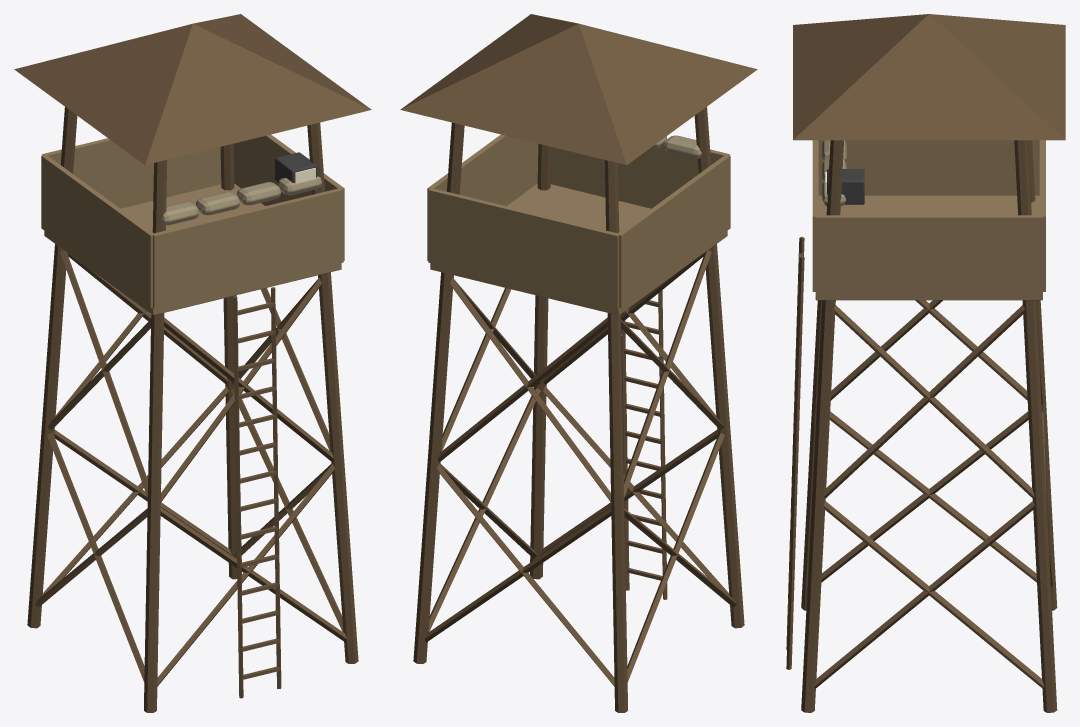
Rendered from HQ_Watchtower.fbx.
3 views of the same model, side by side, from view 1: azimuth 30°, elevation 25°; view 2: azimuth 150°, elevation 25°; view 3: azimuth 270°, elevation 25° (orthographic). The views are drawn at different scales.
Parts seen in each view (by area): view 1: HQ_Watchtower_Mesh; view 2: HQ_Watchtower_Mesh; view 3: HQ_Watchtower_Mesh.
Boxes of the visible parts, x1,y1,x2,y2 form: HQ_Watchtower_Mesh: (14, 14, 371, 712); HQ_Watchtower_Mesh: (400, 14, 757, 712); HQ_Watchtower_Mesh: (786, 14, 1065, 712).
Bounding box in the file's own units: 3.6 × 9.41 × 3.68.
